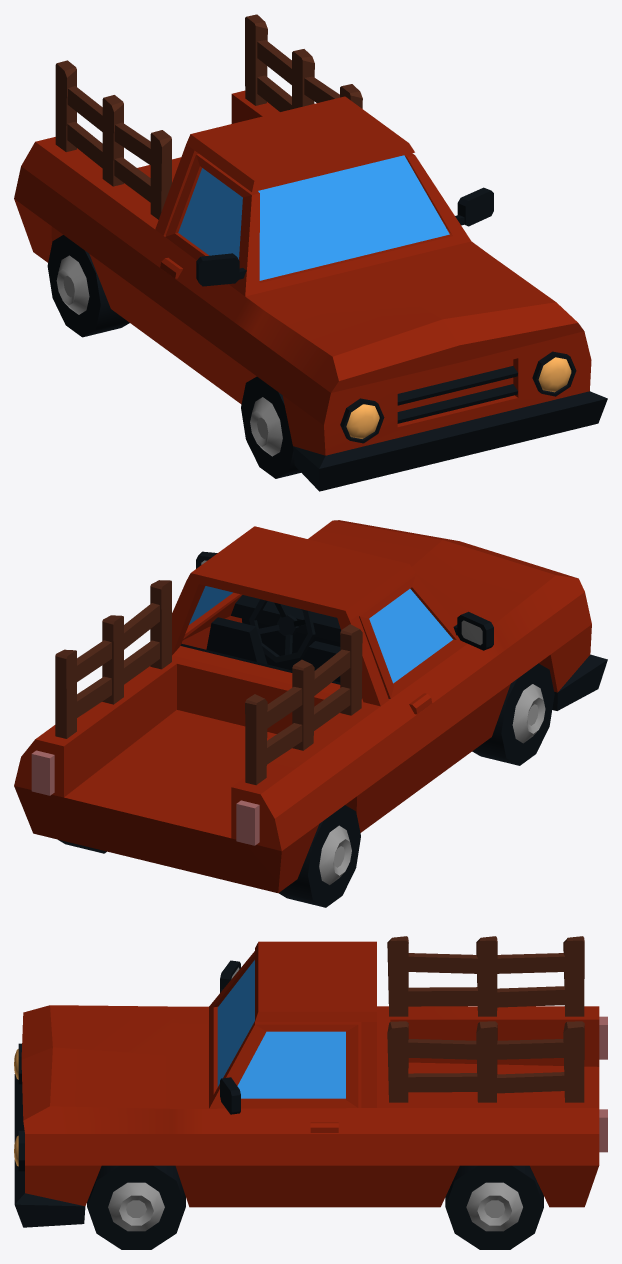
The model's file is Pickup_5.fbx.
The picture shows the model from 3 angles, top to bottom: view 1: azimuth 30°, elevation 25°; view 2: azimuth 150°, elevation 25°; view 3: azimuth 270°, elevation 25°; orthographic projection. The views are drawn at different scales.
Parts seen in each view (by area): view 1: Pickup_5; view 2: Pickup_5; view 3: Pickup_5.
Boxes of the visible parts, left/top/right/bottom form: Pickup_5: left=14, top=14, right=607, bottom=491; Pickup_5: left=14, top=520, right=607, bottom=907; Pickup_5: left=14, top=936, right=607, bottom=1249.
Size of the model in its own units: 72.45 by 54.2 by 136.
